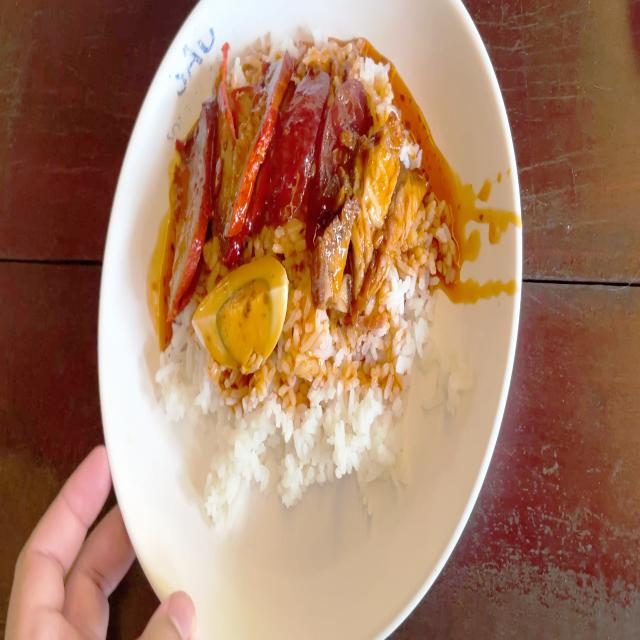boiled_egg: (196, 264, 291, 361)
chainese_sausage: (280, 74, 355, 202)
crispy_pork: (349, 138, 427, 307), (316, 209, 368, 312)
red_pork: (169, 52, 267, 264)
red_pork_and_crispy_pork: (161, 42, 435, 486)
rice: (199, 364, 418, 489), (290, 312, 422, 371), (162, 311, 204, 418)
